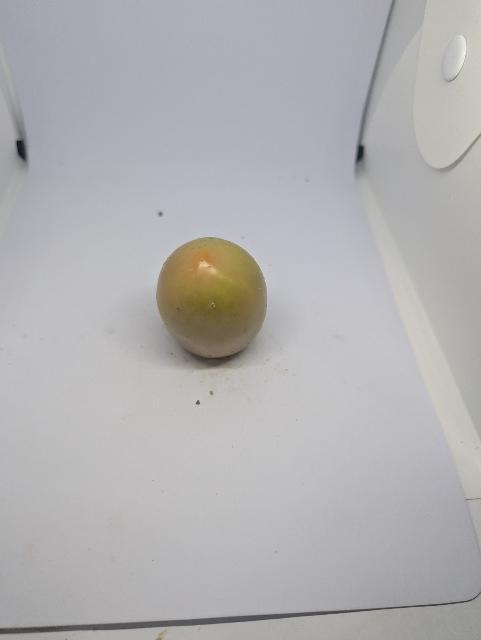breaker: (157, 237, 268, 358)
